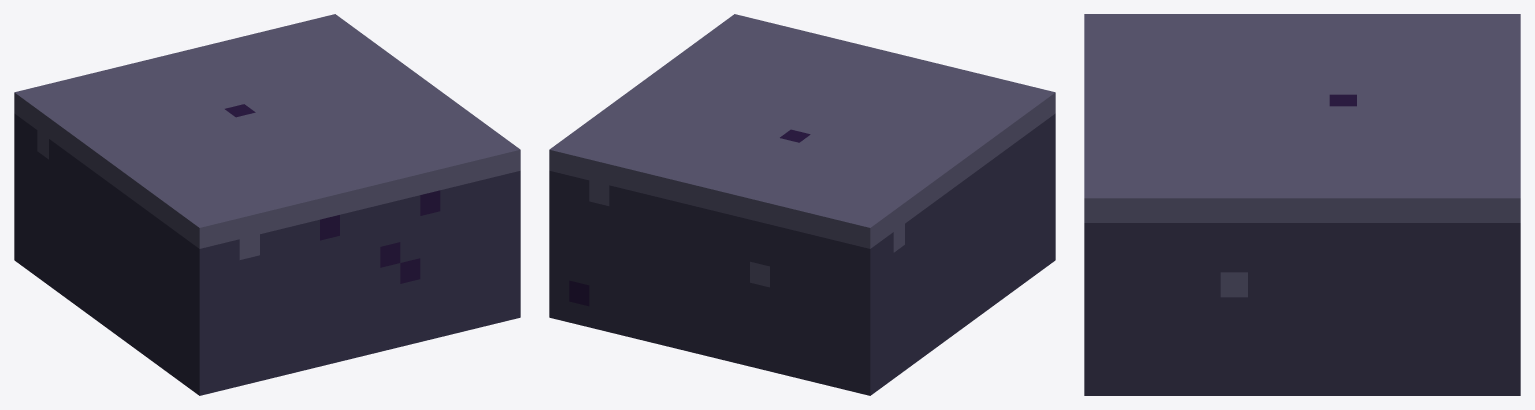
File: platform_half.obj
The picture shows the model from 3 angles, left to right: view 1: azimuth 30°, elevation 25°; view 2: azimuth 150°, elevation 25°; view 3: azimuth 270°, elevation 25°; orthographic projection. The views are drawn at different scales.
Visible parts, largest first — view 1: platform_half; view 2: platform_half; view 3: platform_half.
Part boxes in pixels (x1=…): platform_half: x1=14, y1=14, x2=520, y2=395; platform_half: x1=549, y1=14, x2=1055, y2=395; platform_half: x1=1084, y1=14, x2=1520, y2=395.
Bounding box in the file's own units: 1 × 0.5 × 1.
Materials: 1 (1 with a texture image).
